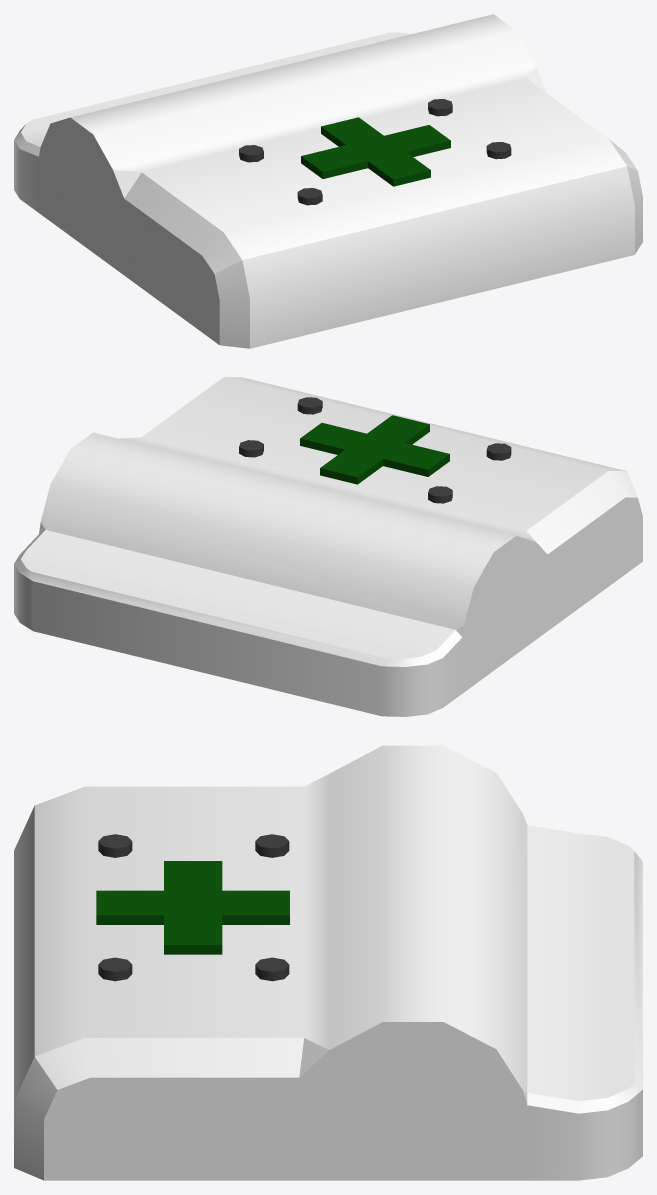
Rendered from Medkit.fbx.
3 views of the same model, one above another, from view 1: azimuth 30°, elevation 25°; view 2: azimuth 150°, elevation 25°; view 3: azimuth 270°, elevation 25° (orthographic). The views are drawn at different scales.
Visible parts, largest first — view 1: Cube.008, Cube.007, Cylinder; view 2: Cube.008, Cube.007, Cylinder; view 3: Cube.008, Cube.007, Cylinder.
Boxes of the visible parts, x1=… form: Cube.008: x1=14, y1=14, x2=642, y2=348; Cube.007: x1=301, y1=117, x2=450, y2=186; Cylinder: x1=239, y1=99, x2=511, y2=205; Cube.008: x1=14, y1=377, x2=642, y2=716; Cube.007: x1=300, y1=415, x2=449, y2=484; Cylinder: x1=239, y1=397, x2=511, y2=503; Cube.008: x1=14, y1=745, x2=642, y2=1180; Cube.007: x1=96, y1=861, x2=289, y2=954; Cylinder: x1=98, y1=834, x2=289, y2=981.
Size of the model in its own units: 84 by 22.48 by 80.77.
1 material, 1 textured.
